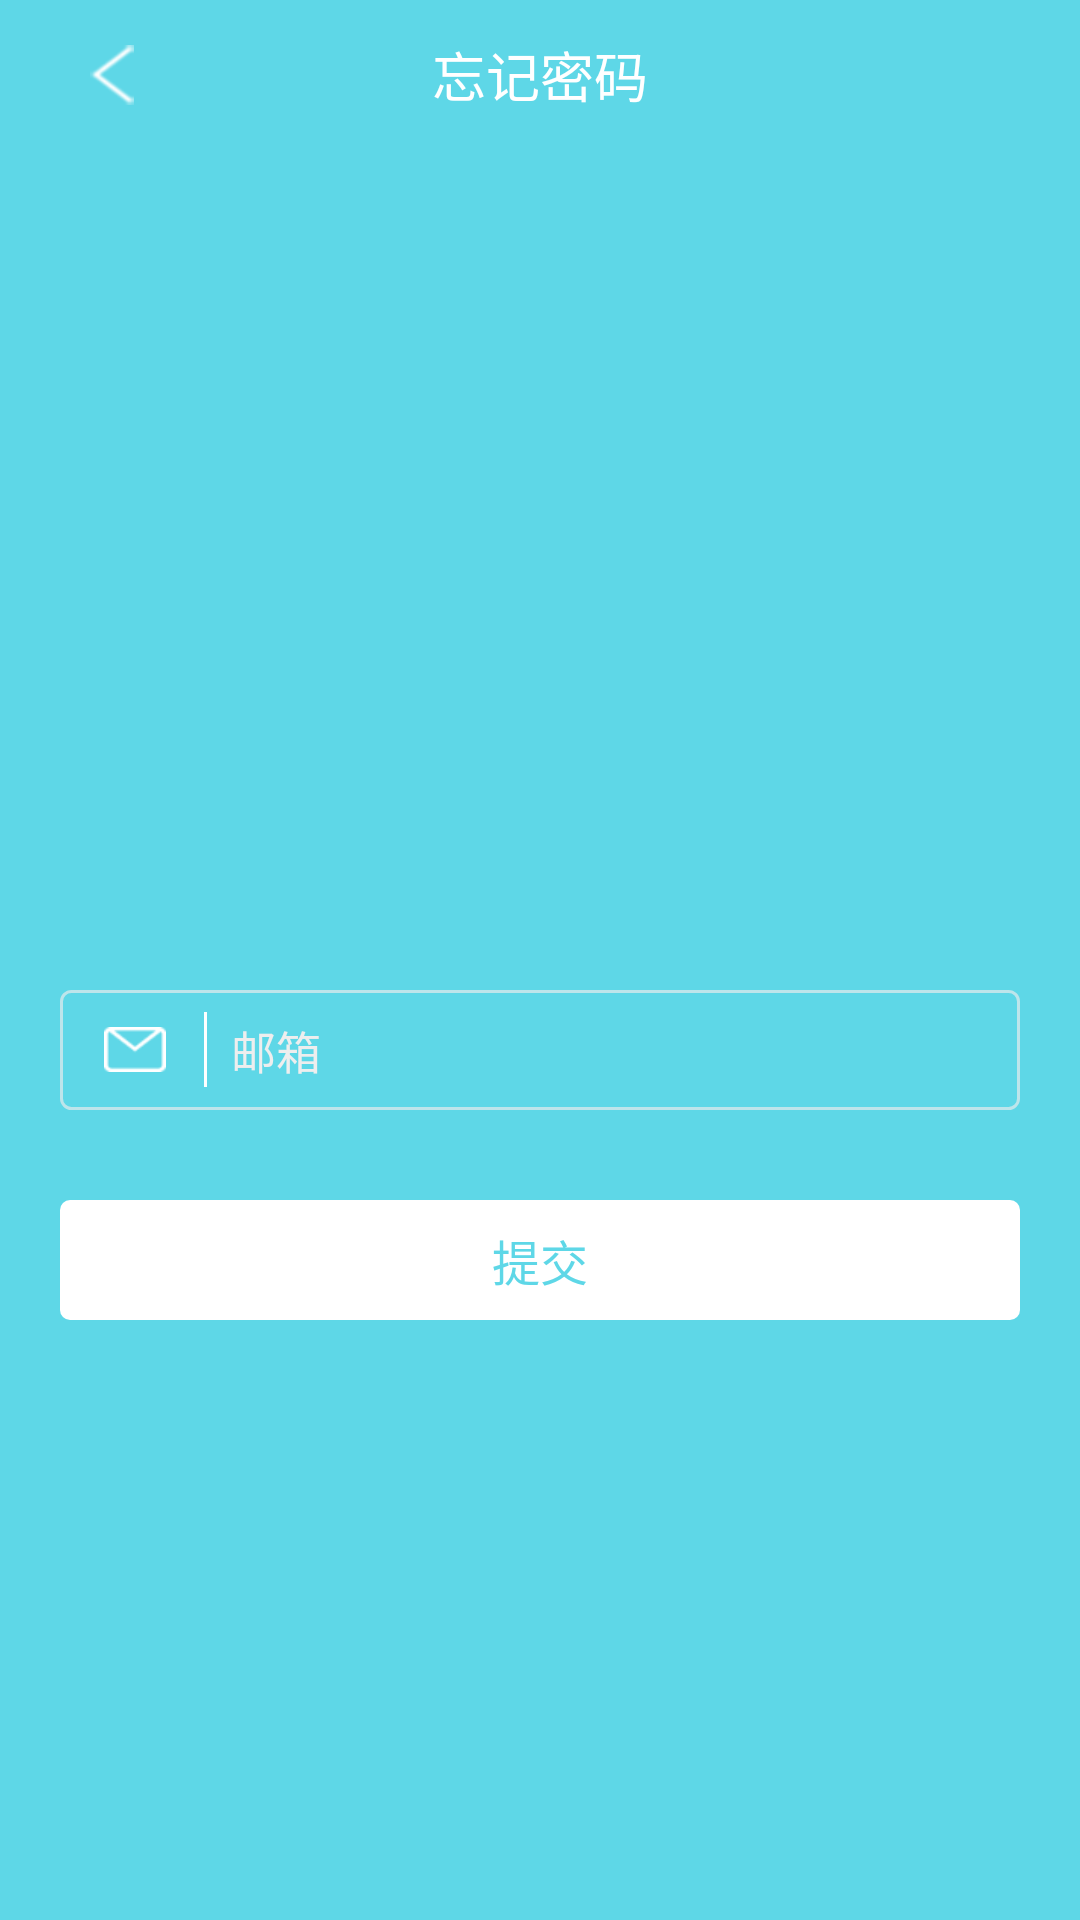

Icons on this 1080 × 1920 Android screen, each with the point to tap as (x=x, y=y):
back: (x=112, y=75)
